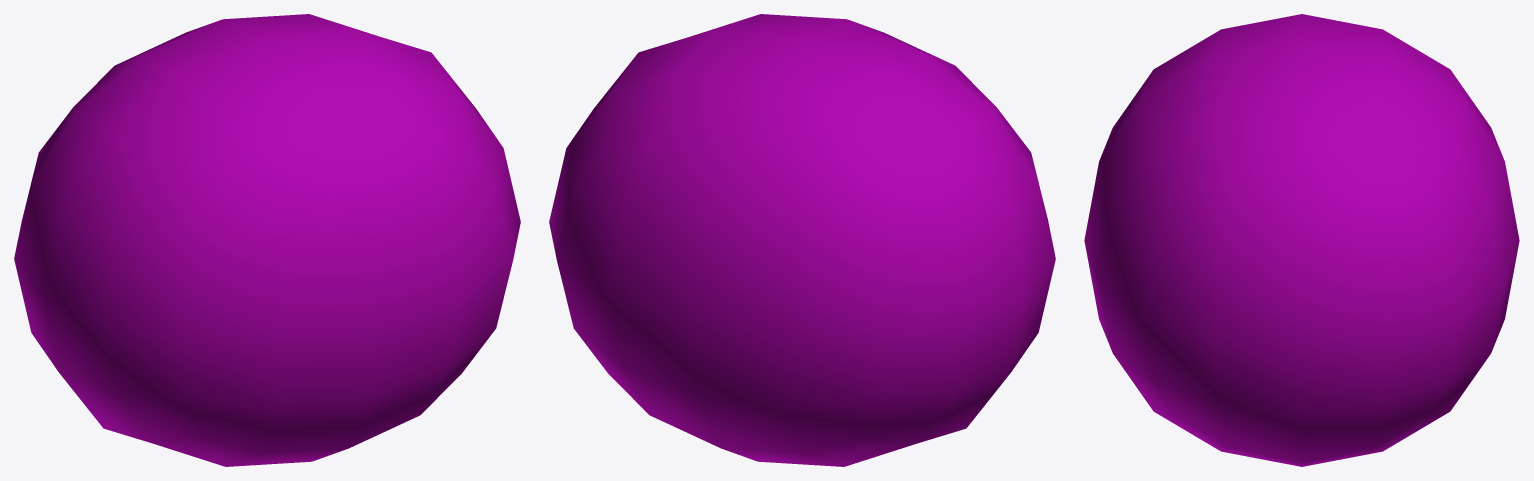
The model's file is Coral_Brain.fbx.
3 views of the same model, side by side, from view 1: azimuth 30°, elevation 25°; view 2: azimuth 150°, elevation 25°; view 3: azimuth 270°, elevation 25° (orthographic). The views are drawn at different scales.
Visible parts, largest first — view 1: Coral_Brain; view 2: Coral_Brain; view 3: Coral_Brain.
Boxes of the visible parts, x1,y1,x2,y2 form: Coral_Brain: (14,14,520,466); Coral_Brain: (549,14,1055,466); Coral_Brain: (1084,14,1519,466).
Bounding box in the file's own units: 16.88 × 14.56 × 14.56.
